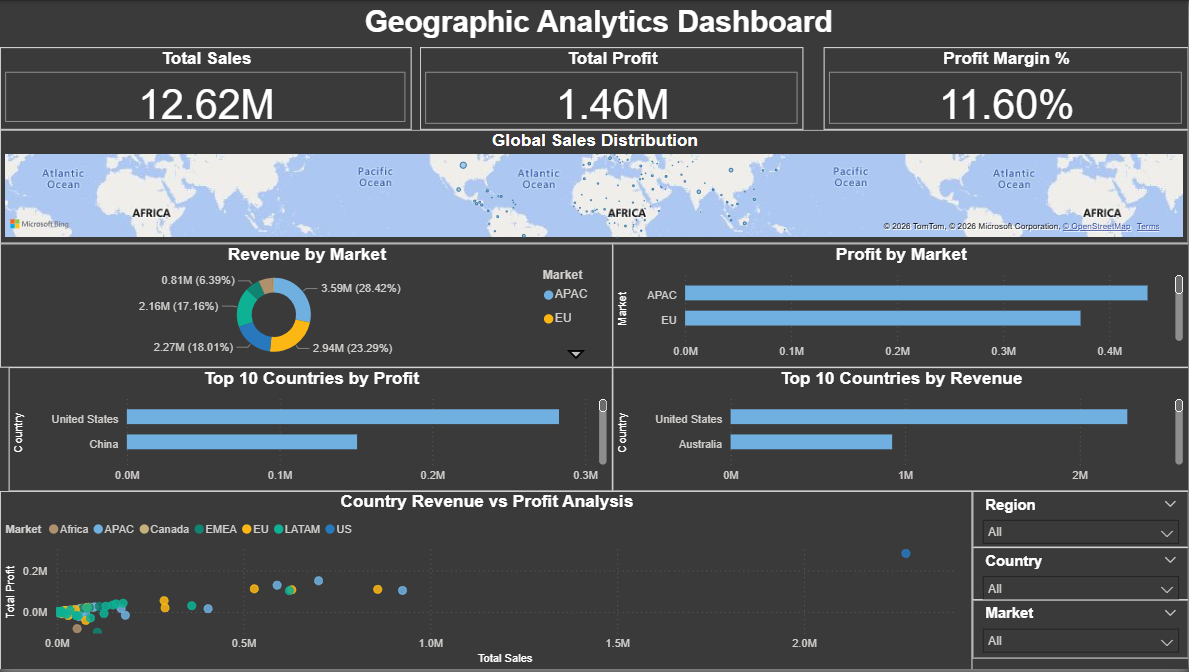

The page's visual inventory and layout, read from the dashboard file:
{"tool":"powerbi","page":{"name":"Geographic Analytics","canvas":[1280,720],"ordinal":3},"visuals":[{"type":"textbox","box":[9.6,0,1270.7,49.4],"z":0},{"type":"cardVisual","title":"Total Sales","fields":{"Data":["vw_sales_summary.Total Sales"]},"box":[0,49.4,443.2,89.2],"z":1000},{"type":"cardVisual","title":"Total Profit","fields":{"Data":["vw_sales_summary.Total Profit"]},"box":[452.8,49.4,413,89.2],"z":2000},{"type":"cardVisual","title":"Profit Margin %","fields":{"Data":["vw_sales_summary.Profit Margin %"]},"box":[887.8,49.4,392.5,89.2],"z":3000},{"type":"map","title":"Global Sales Distribution","fields":{"Category":["vw_sales_summary.Country"],"Size":["vw_sales_summary.Total Sales"]},"box":[0,138.6,1280.3,122.1],"z":4000},{"type":"donutChart","title":"Revenue by Market","fields":{"Category":["vw_sales_summary.Market"],"Y":["vw_sales_summary.Total Sales"]},"box":[0,261.2,682.5,133.3],"z":5000},{"type":"clusteredBarChart","title":"Profit by Market","fields":{"Category":["vw_sales_summary.Market"],"Y":["vw_sales_summary.Total Profit"]},"box":[682.5,259.8,597.7,134.6],"z":6000},{"type":"clusteredBarChart","title":"Top 10 Countries by Revenue","fields":{"Category":["vw_sales_summary.Country"],"Y":["vw_sales_summary.Total Sales"]},"box":[659.7,394.4,620.6,133.3],"z":8000},{"type":"clusteredBarChart","title":"Top 10 Countries by Profit","fields":{"Category":["vw_sales_summary.Country"],"Y":["vw_sales_summary.Total Profit"]},"box":[9.4,394.4,630,133.3],"z":9000},{"type":"scatterChart","title":"Country Revenue vs Profit Analysis","fields":{"X":["vw_sales_summary.Total Sales"],"Y":["vw_sales_summary.Total Profit"],"Series":["vw_sales_summary.Market"],"Category":["vw_sales_summary.Country"]},"box":[0,537.1,1047.4,171],"z":10000},{"type":"slicer","fields":{"Values":["vw_sales_summary.Market"]},"box":[1047.4,644.8,232.9,63.3],"z":11000},{"type":"slicer","fields":{"Values":["vw_sales_summary.Region"]},"box":[1047.4,527.7,232.9,60.6],"z":12000},{"type":"slicer","fields":{"Values":["vw_sales_summary.Country"]},"box":[1047.4,588.3,232.9,56.5],"z":13000}]}

Visuals, with their boxes in screenshot pixels (x1, y1, x2, y2), scaled from the page's 1280x720 canvas onto the 1189x672 screenshot:
textbox: 9, 0, 1188, 46
"Total Sales" cardVisual: 0, 46, 412, 129
"Total Profit" cardVisual: 421, 46, 804, 129
"Profit Margin %" cardVisual: 825, 46, 1188, 129
"Global Sales Distribution" map: 0, 129, 1188, 243
"Revenue by Market" donutChart: 0, 244, 634, 368
"Profit by Market" clusteredBarChart: 634, 242, 1188, 368
"Top 10 Countries by Revenue" clusteredBarChart: 613, 368, 1188, 493
"Top 10 Countries by Profit" clusteredBarChart: 9, 368, 594, 493
"Country Revenue vs Profit Analysis" scatterChart: 0, 501, 973, 661
slicer - vw_sales_summary.Market: 973, 602, 1188, 661
slicer - vw_sales_summary.Region: 973, 493, 1188, 549
slicer - vw_sales_summary.Country: 973, 549, 1188, 602
